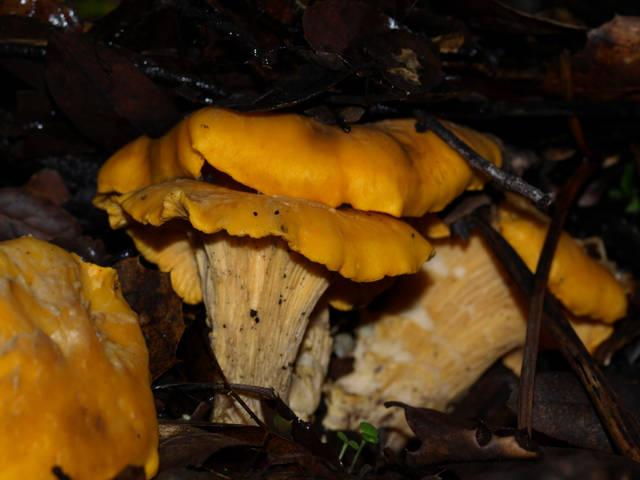Edible Mushroom: (92, 104, 507, 429)
